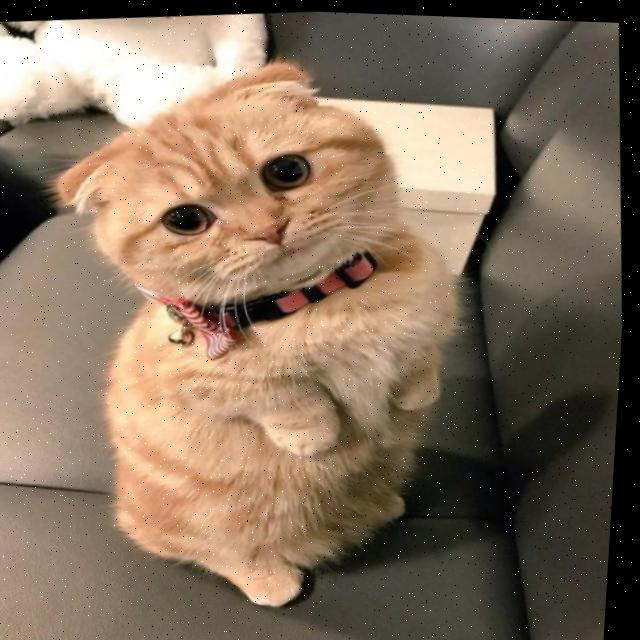Cats: (8, 28, 509, 620)
